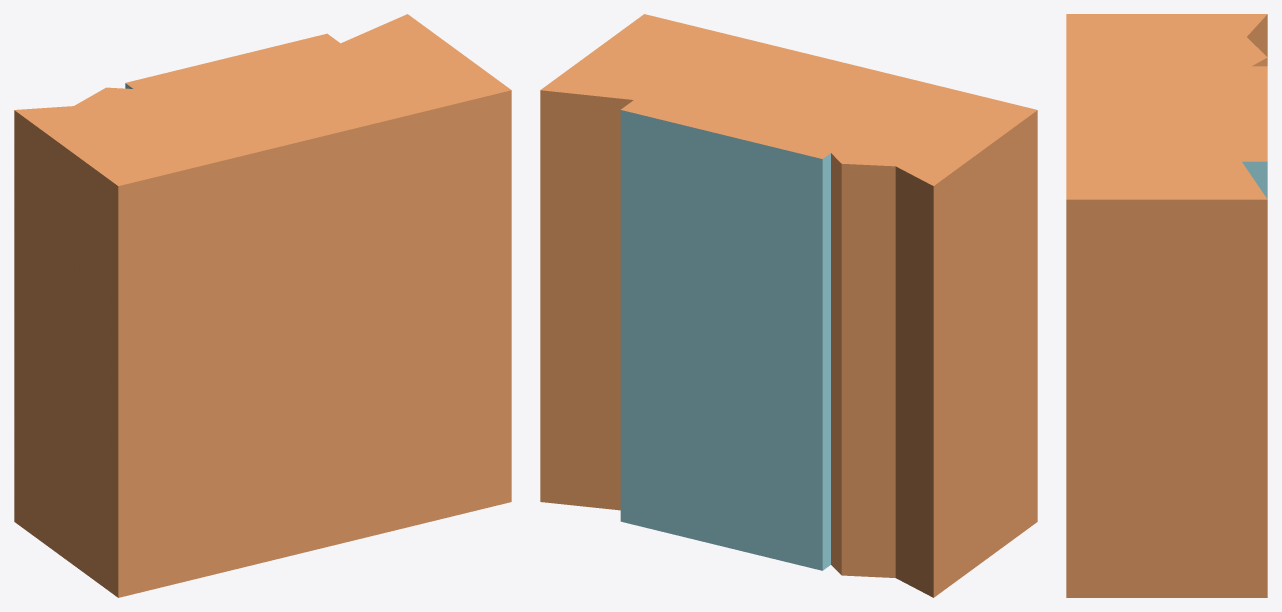
File: cliffBrown_waterfallMid.obj
3 views of the same model, side by side, from view 1: azimuth 30°, elevation 25°; view 2: azimuth 150°, elevation 25°; view 3: azimuth 270°, elevation 25° (orthographic). The views are drawn at different scales.
Parts seen in each view (by area): view 1: cliffBrown_waterfallMid; view 2: cliffBrown_waterfallMid; view 3: cliffBrown_waterfallMid.
Part boxes in pixels (x1=…): cliffBrown_waterfallMid: x1=14, y1=14, x2=511, y2=597; cliffBrown_waterfallMid: x1=540, y1=14, x2=1037, y2=597; cliffBrown_waterfallMid: x1=1066, y1=14, x2=1267, y2=597.
Bounding box in the file's own units: 10 × 10 × 4.58.
